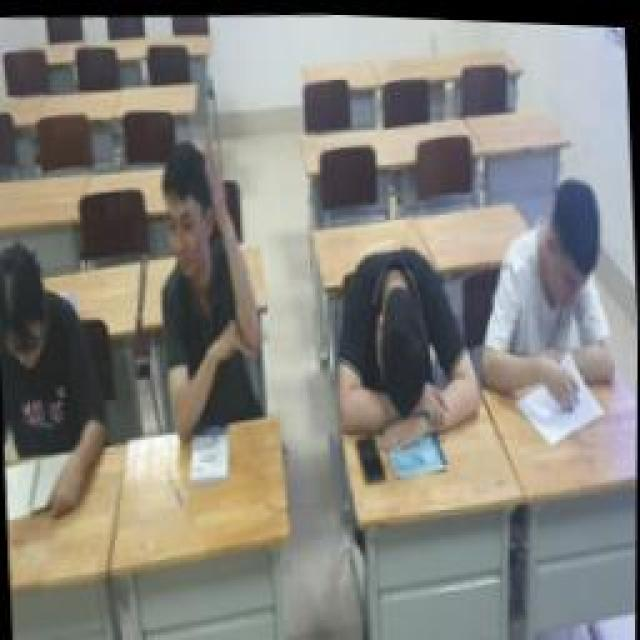sleep: (328, 240, 480, 448)
study: (150, 120, 272, 448), (472, 173, 618, 415), (0, 240, 105, 522)
